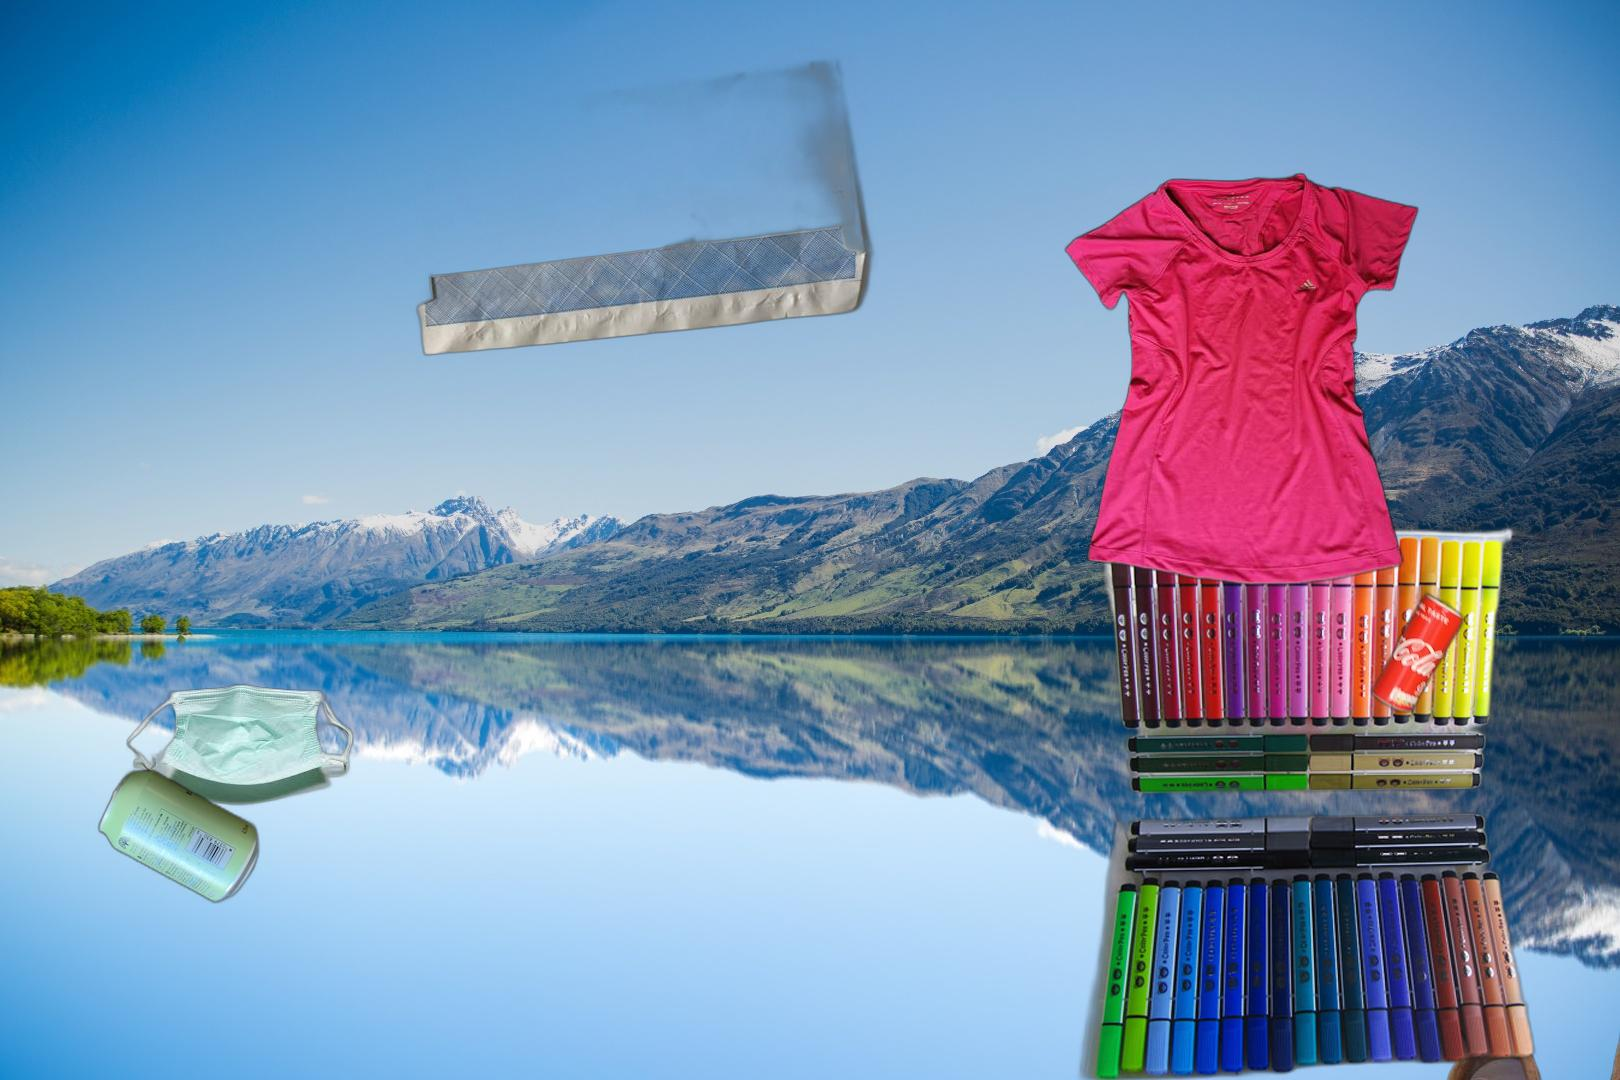clothes: (1062, 169, 1421, 589)
metal-cans: (95, 763, 264, 909), (1368, 585, 1468, 718)
paper: (413, 46, 879, 358)
penholder: (947, 507, 1552, 1080)
shoes: (1401, 984, 1620, 1080)
trash: (125, 682, 356, 809)
